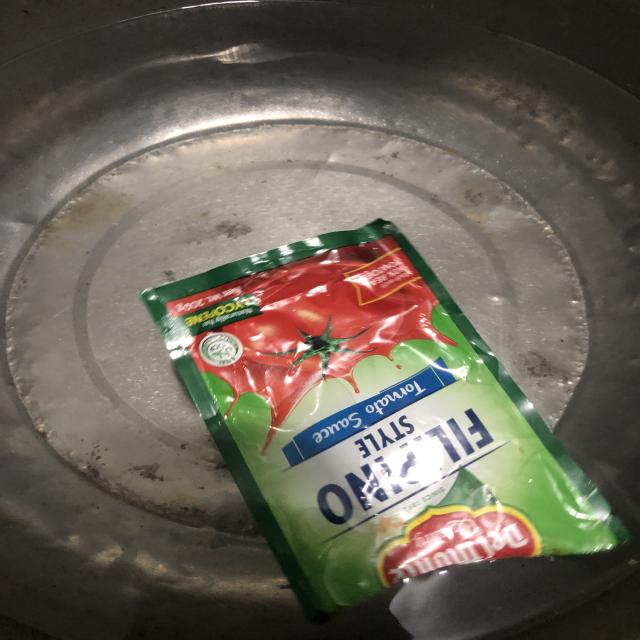Plastic Pouch: (118, 203, 640, 640)
